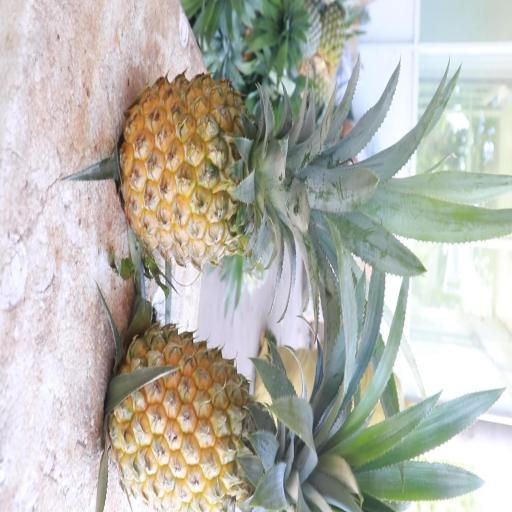Pineapple - v8 v1: (105, 317, 350, 512), (116, 68, 338, 276)
